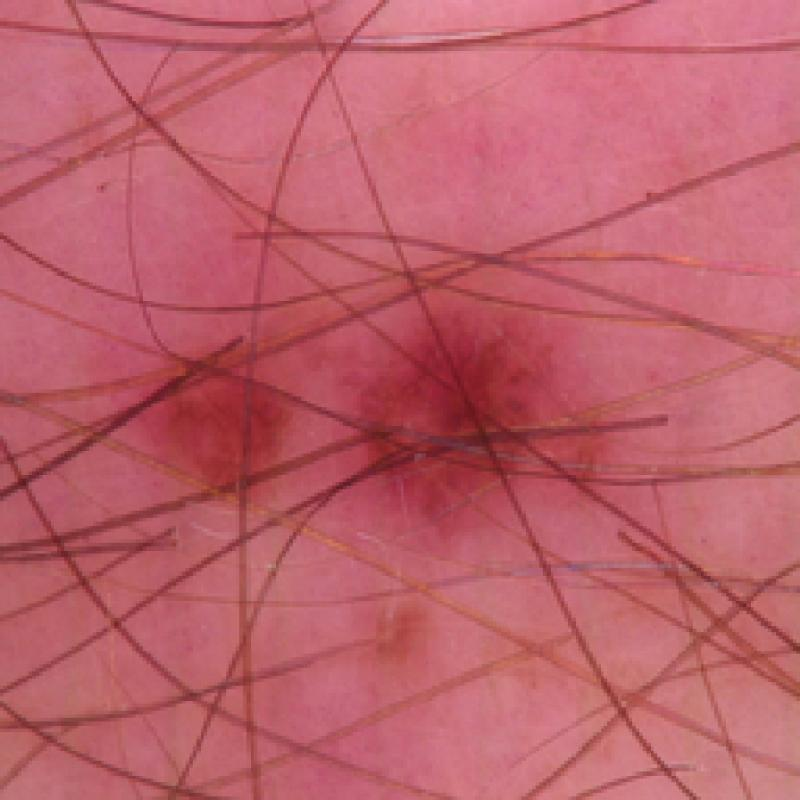benign: (338, 289, 597, 544), (125, 340, 303, 526)
